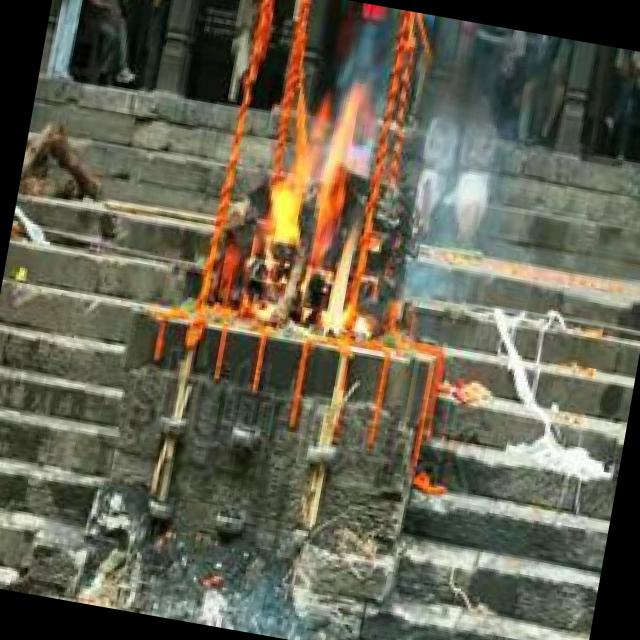Fire: (245, 80, 410, 338)
